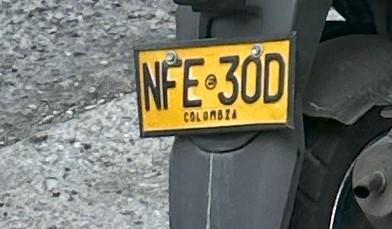number plate: (135, 36, 293, 135)
